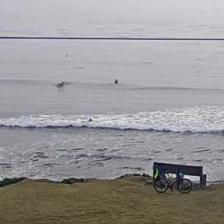surfer: (56, 82, 64, 87), (114, 79, 118, 84), (89, 117, 92, 121)
